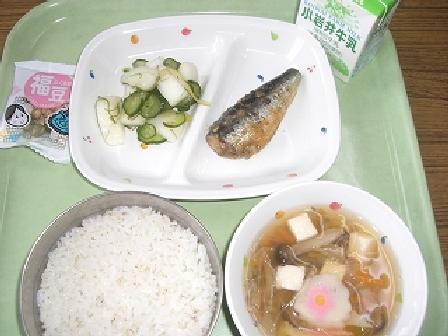Fish: (206, 65, 308, 159)
Milk: (297, 0, 396, 66)
Rice: (13, 190, 225, 335)
Soups: (221, 193, 433, 335)
salad fresh: (95, 54, 190, 150)
